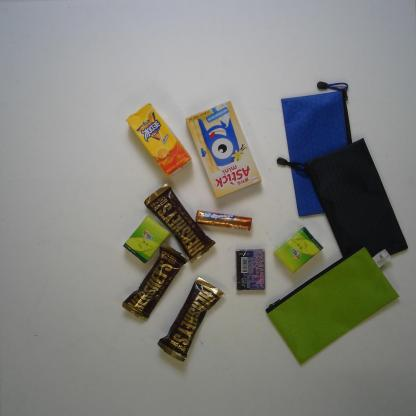Candy: (196, 209, 254, 231)
Chocolate: (156, 276, 226, 362), (144, 183, 216, 264), (121, 241, 190, 322)
Dessert: (185, 100, 263, 200)
Drink: (125, 102, 192, 177)
Gum: (235, 248, 266, 291)
Stationery: (264, 242, 402, 366), (276, 136, 410, 261), (282, 78, 353, 218)
Tissue: (122, 214, 173, 264), (272, 225, 324, 274)
